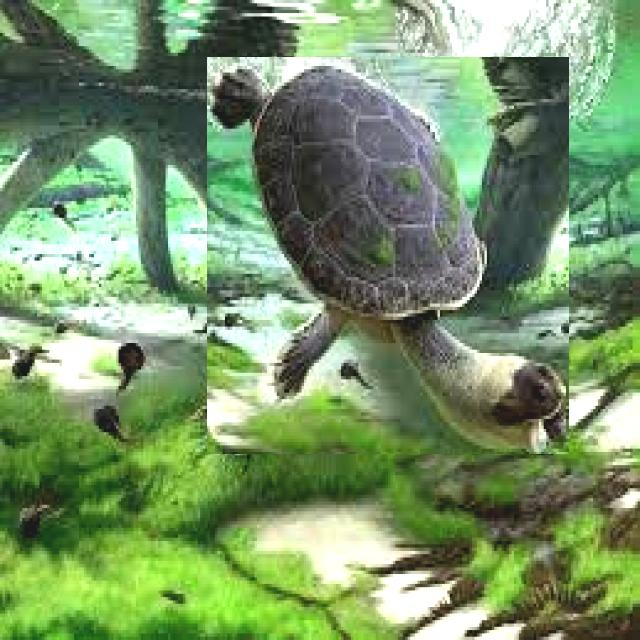Sea turtle: (207, 57, 569, 454)
